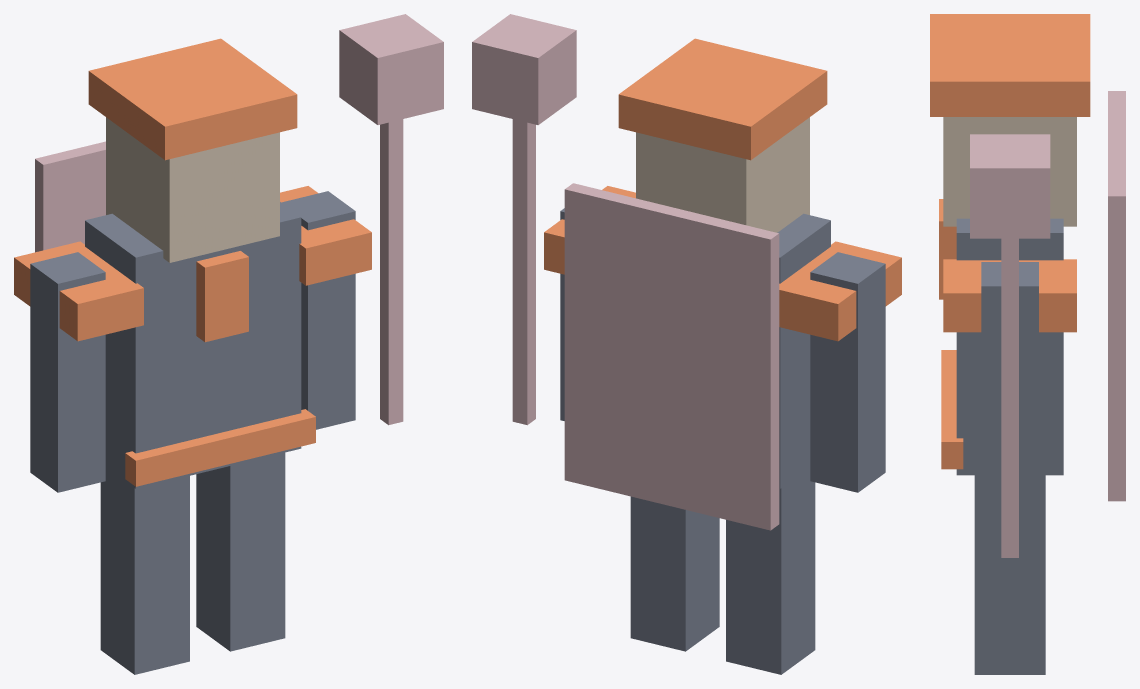
Rendered from 02_maelis_runeclasp_broker_under_climber.glb.
The picture shows the model from 3 angles, left to right: view 1: azimuth 30°, elevation 25°; view 2: azimuth 150°, elevation 25°; view 3: azimuth 270°, elevation 25°; orthographic projection. The views are drawn at different scales.
Visible parts, largest first — view 1: Maelis Runeclasp, Broker under Climber; view 2: Maelis Runeclasp, Broker under Climber; view 3: Maelis Runeclasp, Broker under Climber.
Boxes of the visible parts, bbox=[...] form: Maelis Runeclasp, Broker under Climber: bbox=[14, 14, 443, 674]; Maelis Runeclasp, Broker under Climber: bbox=[472, 14, 901, 674]; Maelis Runeclasp, Broker under Climber: bbox=[930, 14, 1125, 674].
Bounding box in the file's own units: 1.1 × 1.56 × 0.4691.
